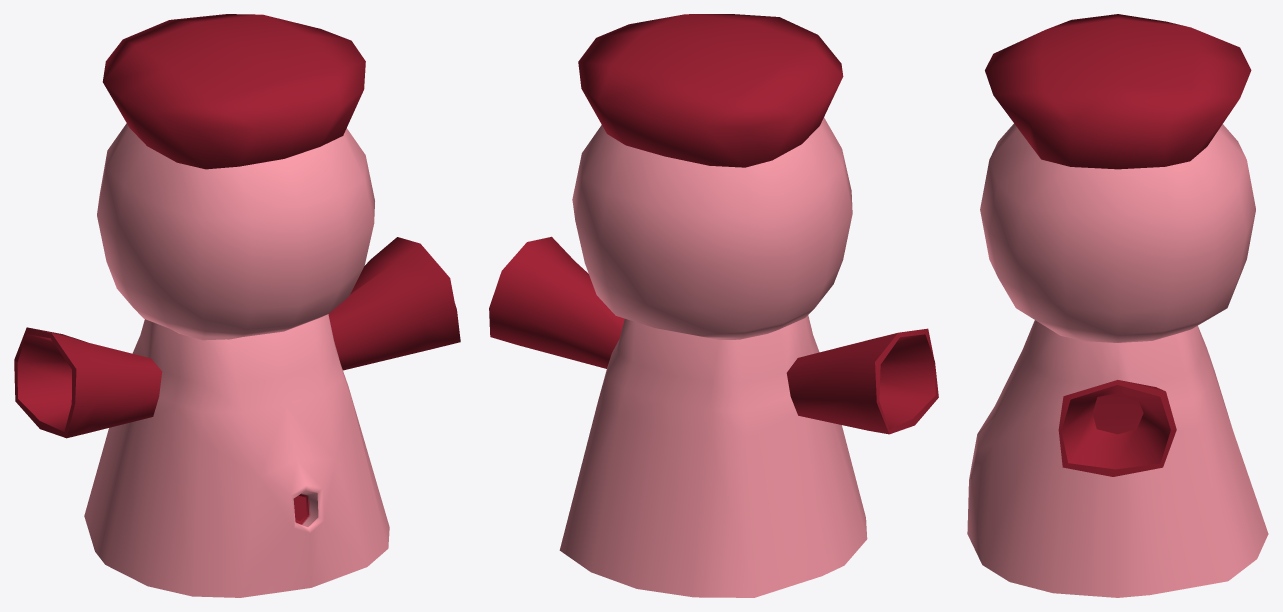
File: Ground.fbx
3 views of the same model, side by side, from view 1: azimuth 30°, elevation 25°; view 2: azimuth 150°, elevation 25°; view 3: azimuth 270°, elevation 25° (orthographic).
Visible parts, largest first — view 1: polySurface2, polySurface1; view 2: polySurface2, polySurface1; view 3: polySurface1, polySurface2.
Boxes of the visible parts, x1=… form: polySurface2: x1=14, y1=237, x2=460, y2=597; polySurface1: x1=97, y1=14, x2=374, y2=340; polySurface2: x1=489, y1=236, x2=938, y2=597; polySurface1: x1=572, y1=14, x2=852, y2=339; polySurface1: x1=980, y1=14, x2=1255, y2=342; polySurface2: x1=967, y1=320, x2=1268, y2=597.
Size of the model in its own units: 14.58 by 17.29 by 9.58.
2 materials, 2 textured.
